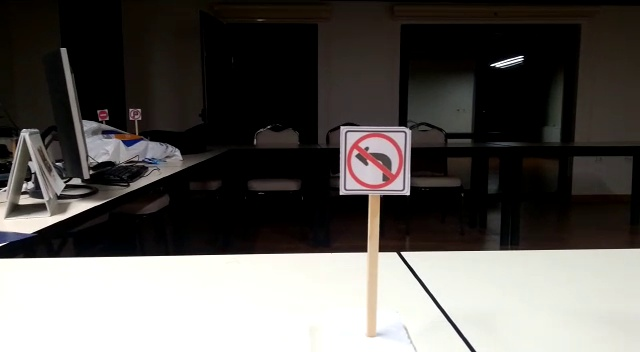sola_donulmez: (349, 133, 406, 187)
